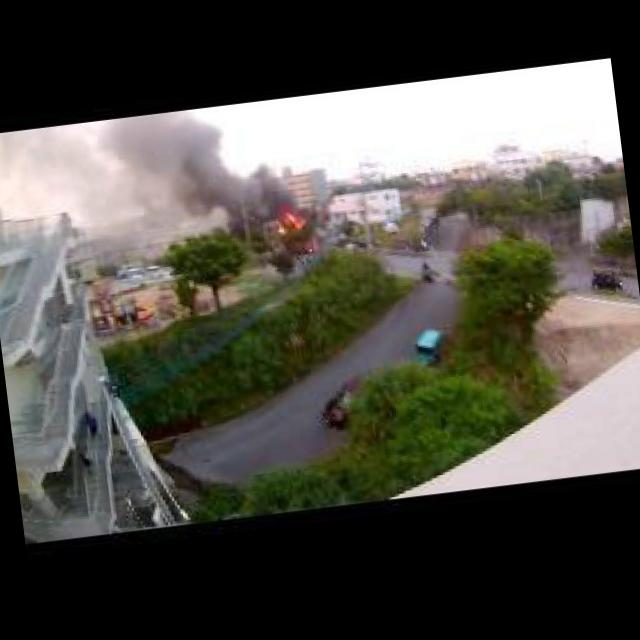fire: (278, 211, 304, 232)
smoke: (136, 146, 298, 232), (72, 107, 221, 198)
